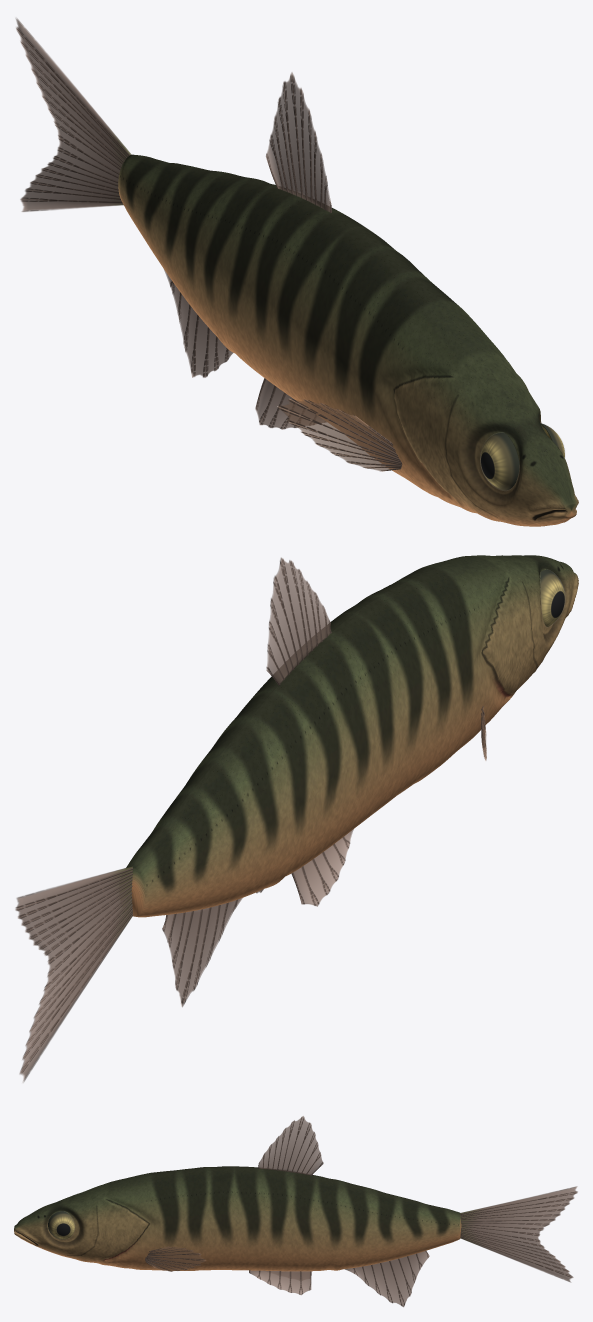
Rendered from strzebla.glb.
The picture shows the model from 3 angles, top to bottom: view 1: azimuth 30°, elevation 25°; view 2: azimuth 150°, elevation 25°; view 3: azimuth 270°, elevation 25°; orthographic projection. The views are drawn at different scales.
Visible parts, largest first — view 1: Body, FinCaudal, FinDorsal1, FinPectoral, FinAnal, FinPelvic, EyeLeft; view 2: Body, FinCaudal, FinDorsal1, FinAnal, FinPelvic, EyeLeft; view 3: Body, FinCaudal, FinDorsal1, FinAnal, FinPectoral, FinPelvic, EyeRight.
Part boxes in pixels (x1,y1,x2,y2): Body: (118,154,578,526); FinCaudal: (16,18,131,211); FinDorsal1: (266,72,331,212); FinPectoral: (277,398,402,471); FinAnal: (164,270,233,377); FinPelvic: (255,378,325,429); EyeLeft: (480,433,519,490); Body: (126,555,578,917); FinCaudal: (15,866,133,1082); FinDorsal1: (266,557,331,685); FinAnal: (162,898,242,1007); FinPelvic: (256,829,353,906); EyeLeft: (540,569,564,626); Body: (14,1166,461,1271); FinCaudal: (460,1186,577,1282); FinDorsal1: (258,1116,323,1175); FinAnal: (345,1251,429,1307); FinPectoral: (145,1246,206,1271); FinPelvic: (249,1270,311,1294); EyeRight: (48,1211,74,1239).
Bounding box in the file's own units: 0.2173 × 0.3753 × 1.
Materials: 8 (7 with a texture image).
